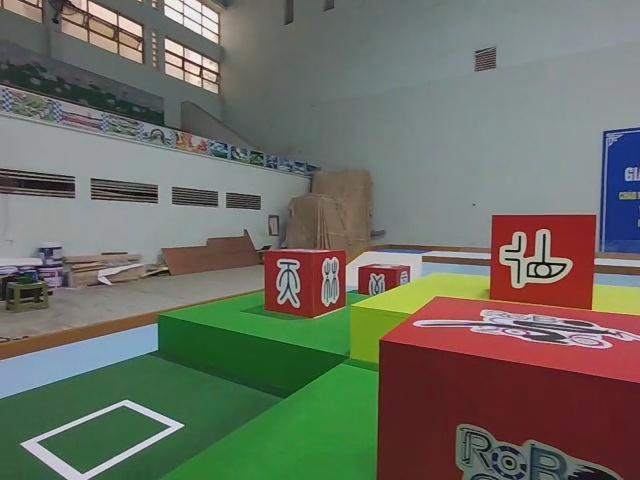R1: (373, 293, 640, 480)
R2 Fake: (262, 246, 348, 319), (356, 261, 412, 301)
R2 Real: (487, 210, 598, 311)
